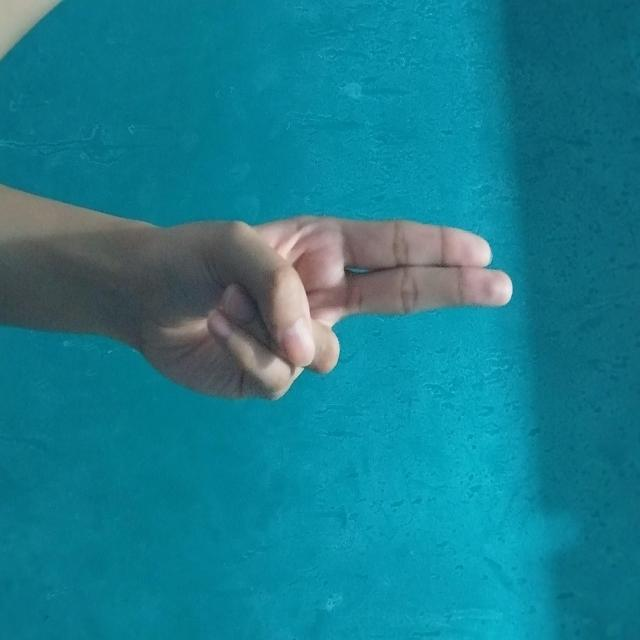U: (213, 128, 404, 509)
